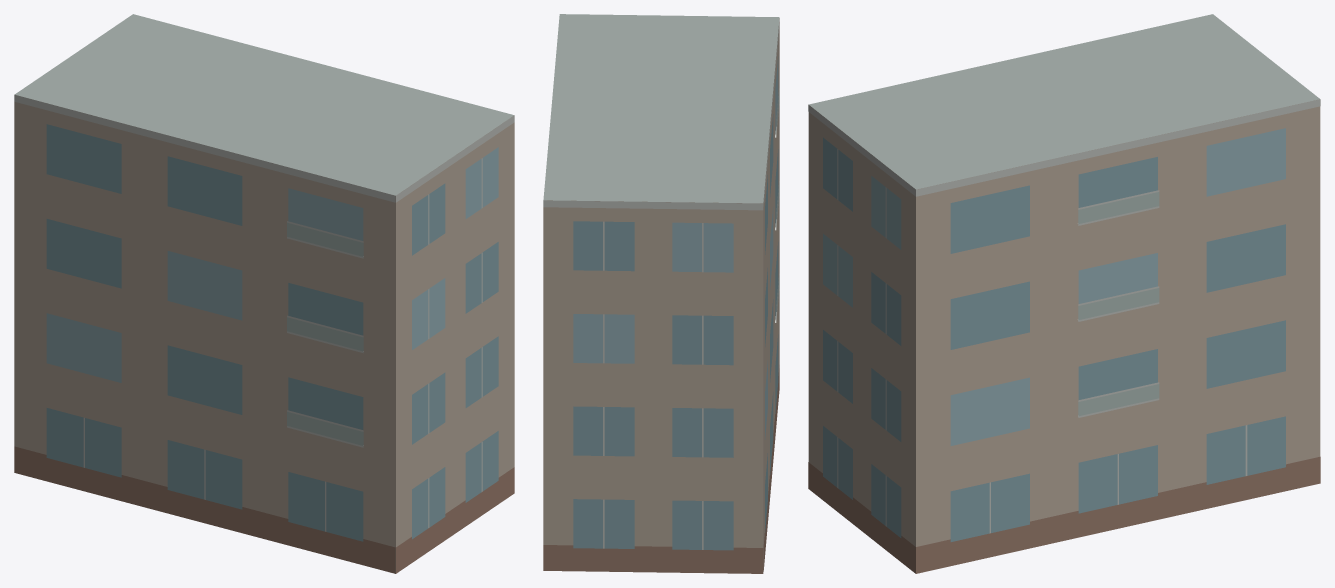
The model's file is survey-upis-32577230.glb.
3 views of the same model, side by side, from view 1: azimuth 30°, elevation 25°; view 2: azimuth 150°, elevation 25°; view 3: azimuth 270°, elevation 25° (orthographic). The views are drawn at different scales.
Visible parts, largest first — view 1: survey-upis-32577230.tmp; view 2: survey-upis-32577230.tmp; view 3: survey-upis-32577230.tmp.
Part boxes in pixels (<box>): survey-upis-32577230.tmp: <box>14,14,514,573</box>; survey-upis-32577230.tmp: <box>543,14,779,573</box>; survey-upis-32577230.tmp: <box>808,14,1320,573</box>.
Bounding box in the file's own units: 12.75 × 13 × 15.7.
